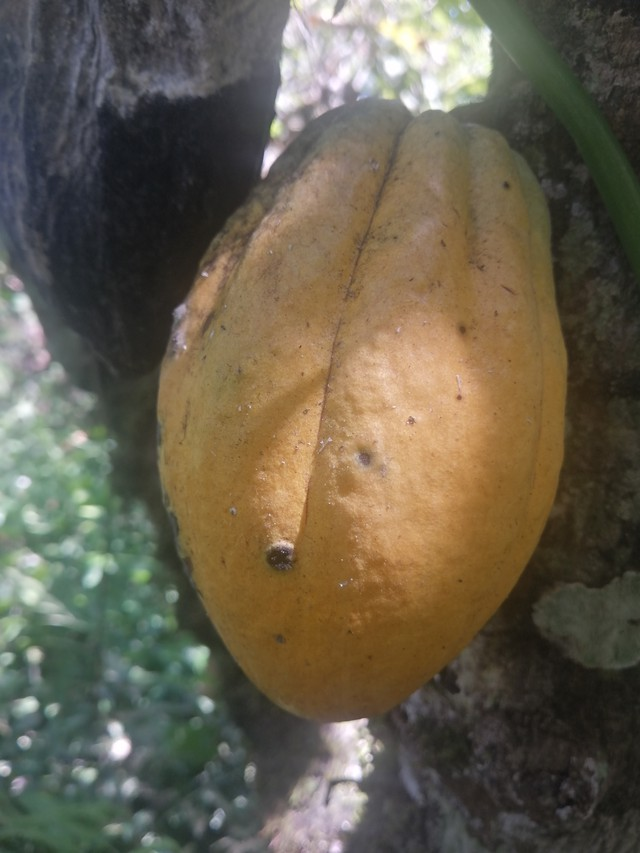Health: (128, 80, 588, 728)
